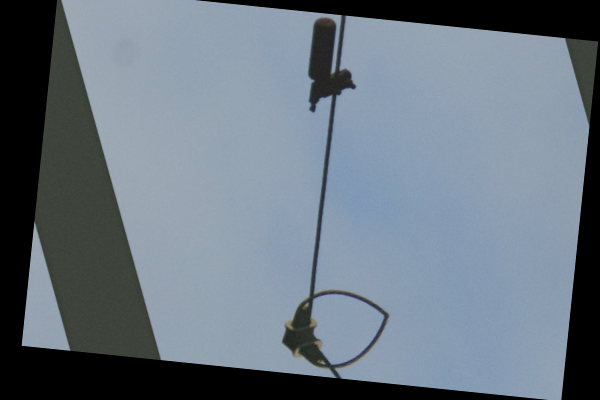damper_defect: (300, 15, 360, 116)
